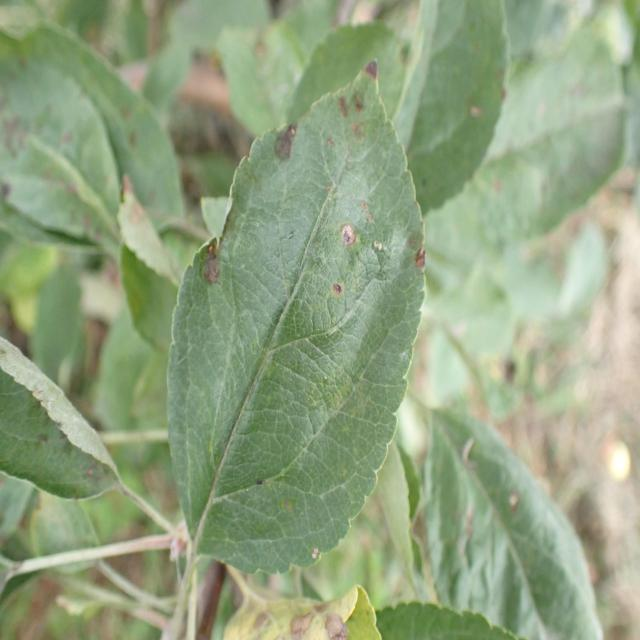frog-eye-leaf-spot: (166, 57, 427, 579)
